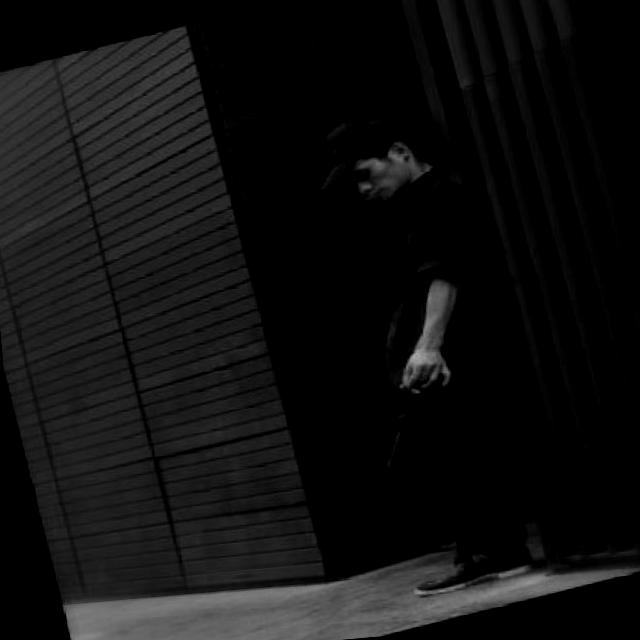smoke: (397, 376, 428, 402)
